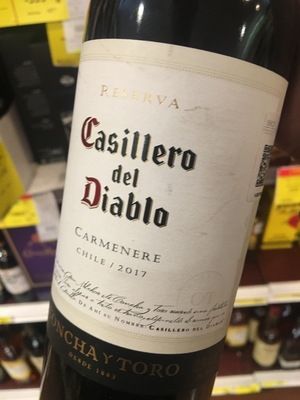casillero del diablo carmenere: (47, 13, 270, 400)
